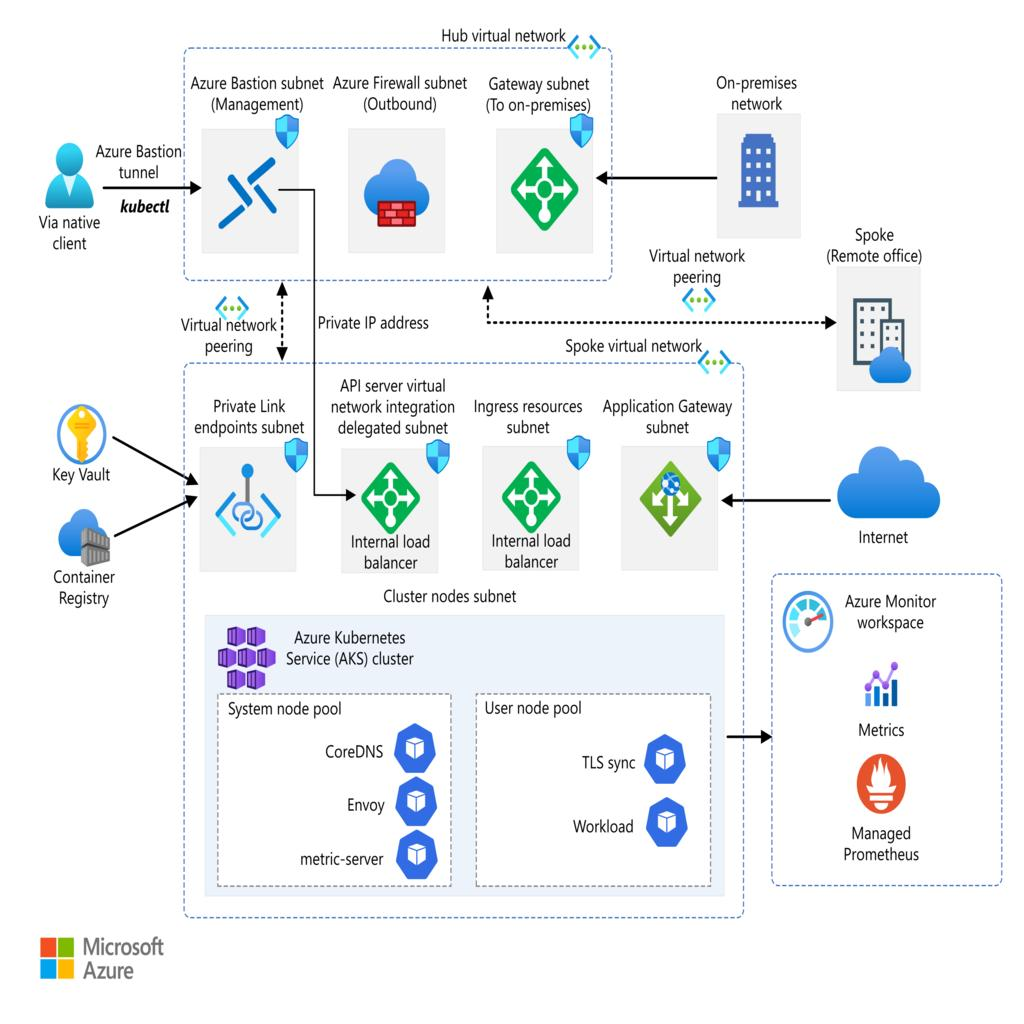actor: (830, 225, 922, 389), (717, 102, 801, 236), (26, 136, 108, 270), (837, 450, 939, 542)
api_gateway: (362, 458, 426, 535), (499, 458, 562, 535), (639, 458, 702, 535)
compute: (394, 724, 435, 770), (394, 781, 435, 827), (394, 832, 435, 878), (643, 732, 684, 778), (643, 798, 684, 844)
data_flow: (108, 432, 192, 486), (108, 490, 192, 544), (299, 190, 311, 494), (488, 317, 828, 322), (718, 494, 836, 499), (598, 176, 717, 180), (280, 280, 285, 358), (106, 187, 180, 192), (725, 735, 770, 740)
database_storage: (52, 507, 112, 599)
network_security: (216, 151, 280, 228), (362, 151, 426, 228), (216, 458, 280, 535), (512, 151, 575, 228), (56, 396, 108, 464)
trust_boundary: (182, 361, 744, 919), (207, 613, 719, 898), (182, 46, 612, 282), (770, 574, 1002, 890), (216, 690, 450, 891), (476, 690, 710, 891), (184, 394, 312, 568), (330, 394, 458, 568), (472, 394, 590, 568), (612, 394, 730, 568), (184, 108, 312, 262), (330, 108, 458, 262), (484, 108, 602, 262)
